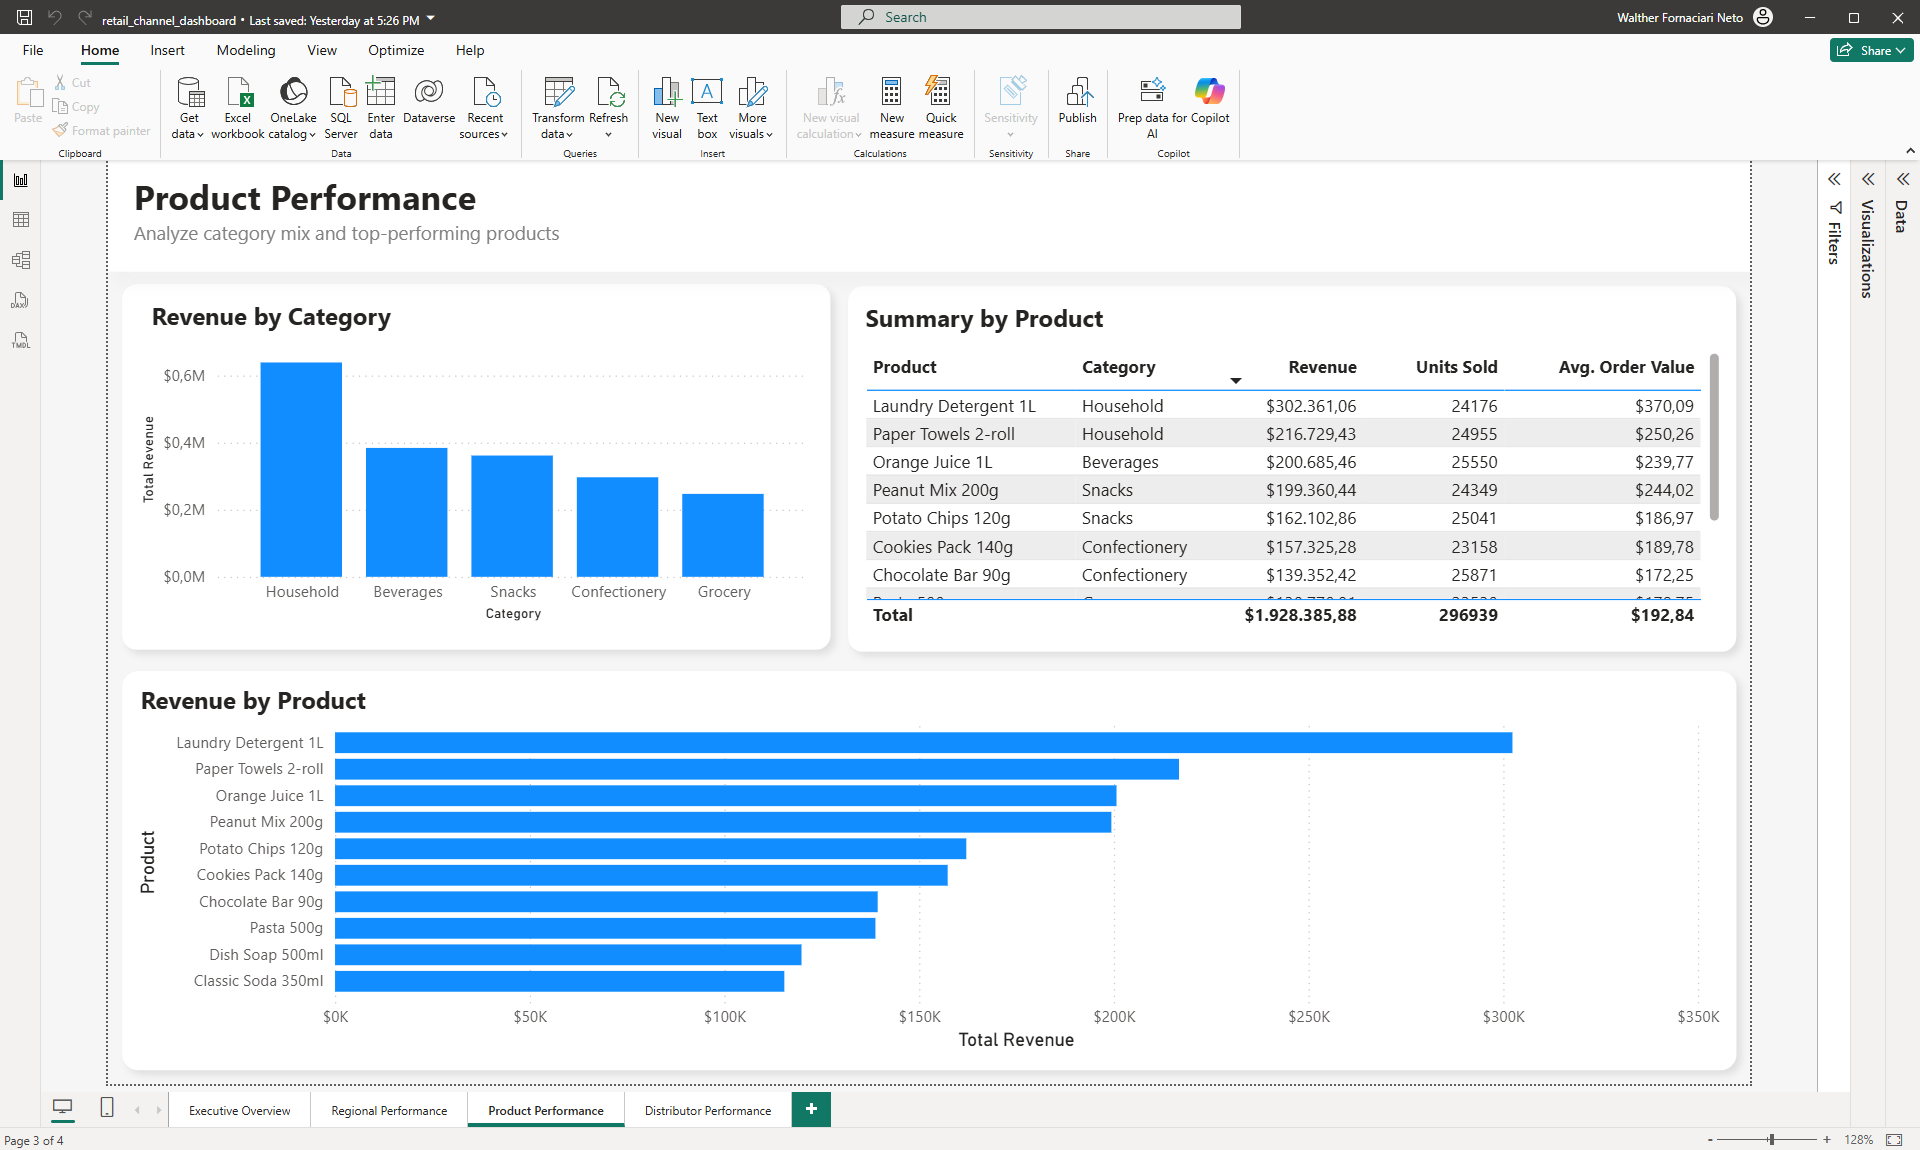

The dashboard page shown, as its layout file describes it:
{"tool":"powerbi","page":{"name":"Product Performance","canvas":[1280,720],"ordinal":2},"visuals":[{"type":"shape","box":[0,86,574,307],"z":0},{"type":"textbox","box":[29,104,264,40],"z":500},{"type":"shape","box":[566,87,714,307],"z":1000},{"type":"textbox","box":[585,105,264,40],"z":2000},{"type":"shape","box":[0,387,1280,333],"z":3000},{"type":"columnChart","title":"Revenue by Category","fields":{"Y":["public fact_sales.Total Revenue"],"Category":["public dim_product.category"]},"box":[21,128,530,236],"z":4000},{"type":"tableEx","fields":{"Values":["public dim_product.product_name","public dim_product.category","public fact_sales.Total Revenue","public fact_sales.Total Units Sold","public fact_sales.Average Order Value"]},"box":[585,145,676,224],"z":5000},{"type":"barChart","title":"Revenue by Product","fields":{"Y":["public fact_sales.Total Revenue"],"Category":["public dim_product.product_name"]},"box":[18,425,1243,274],"z":6000},{"type":"shape","box":[0,71,1280,19],"z":7000},{"type":"textbox","box":[0,0,1280,87],"z":8000},{"type":"textbox","box":[20,403,546,40],"z":9000}]}

Visuals, with their boxes on the page's 1280x720 design canvas (x1, y1, x2, y2). These are canvas units, not pixel positions in the 1920x1150 screenshot, which may show the page scaled, cropped or inside an application window:
shape: 0, 86, 574, 393
textbox: 29, 104, 293, 144
shape: 566, 87, 1280, 394
textbox: 585, 105, 849, 145
shape: 0, 387, 1280, 720
"Revenue by Category" columnChart: 21, 128, 551, 364
tableEx - public dim_product.product_name x public dim_product.category: 585, 145, 1261, 369
"Revenue by Product" barChart: 18, 425, 1261, 699
shape: 0, 71, 1280, 90
textbox: 0, 0, 1280, 87
textbox: 20, 403, 566, 443
